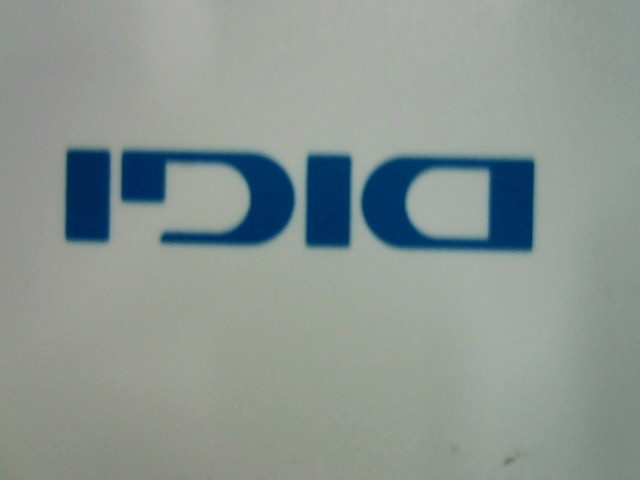BL_DIGI: (46, 136, 535, 254)
